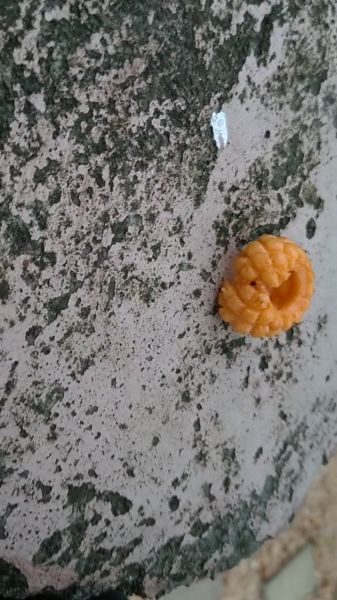eggs: (208, 228, 321, 342)
